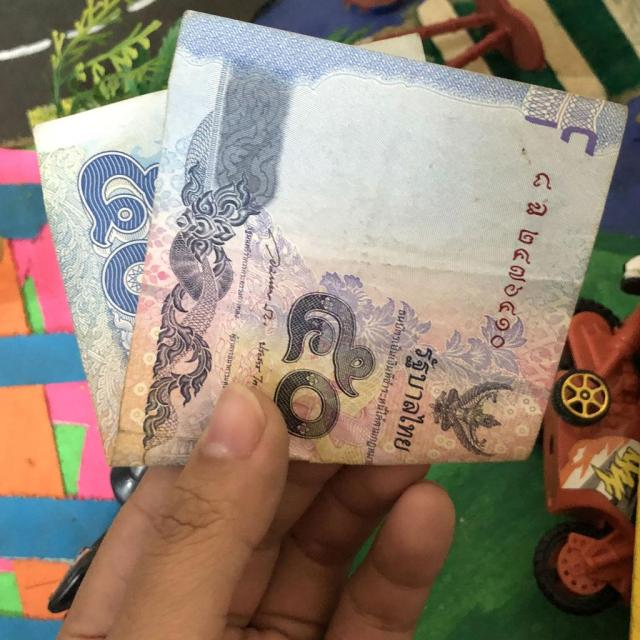THAI50: (35, 12, 627, 466)
